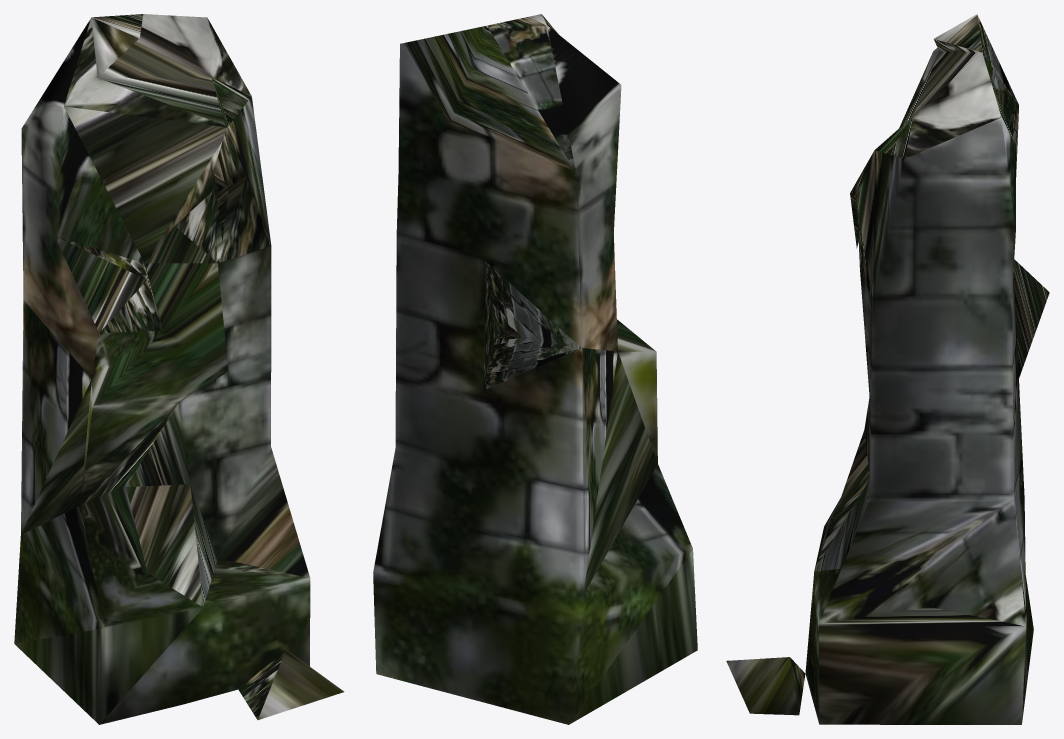
The model's file is Cementery_Pillar_Vari.glb.
3 views of the same model, side by side, from view 1: azimuth 30°, elevation 25°; view 2: azimuth 150°, elevation 25°; view 3: azimuth 270°, elevation 25° (orthographic). The views are drawn at different scales.
Visible parts, largest first — view 1: Cementery_Pillar_Vari; view 2: Cementery_Pillar_Vari; view 3: Cementery_Pillar_Vari.
Boxes of the visible parts, bbox=[...] form: Cementery_Pillar_Vari: bbox=[14, 14, 344, 724]; Cementery_Pillar_Vari: bbox=[373, 14, 697, 724]; Cementery_Pillar_Vari: bbox=[726, 14, 1049, 724].
Bounding box in the file's own units: 0.6654 × 1.93 × 0.8839.
1 material, 1 textured.
